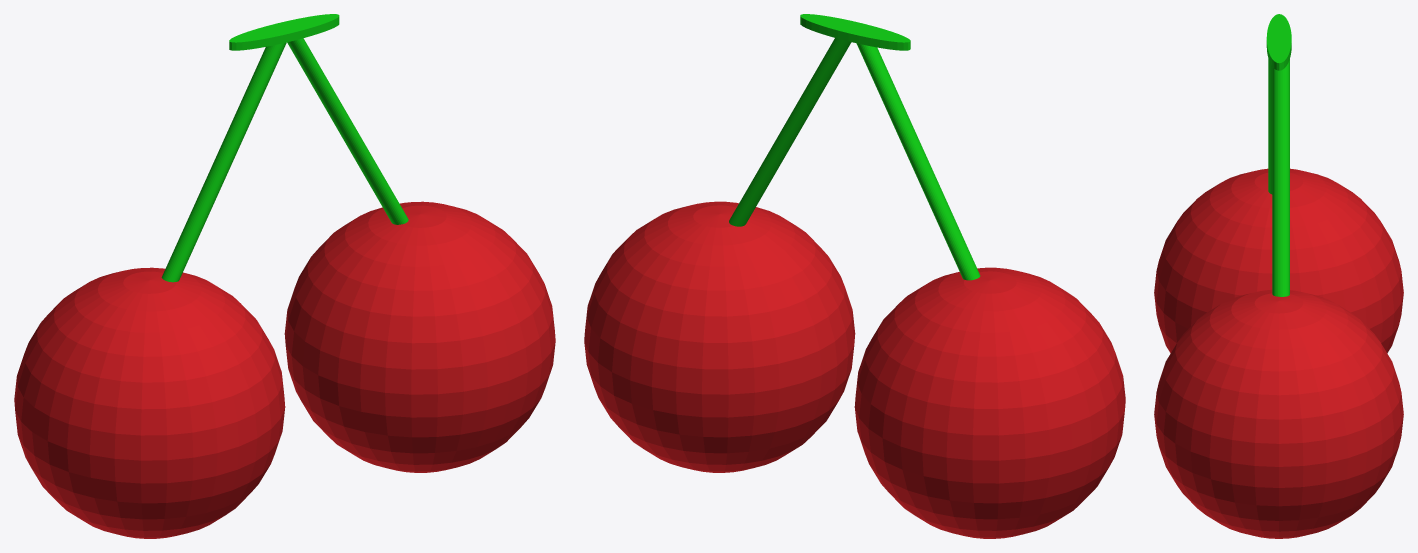
The model's file is cherry.fbx.
The picture shows the model from 3 angles, left to right: view 1: azimuth 30°, elevation 25°; view 2: azimuth 150°, elevation 25°; view 3: azimuth 270°, elevation 25°; orthographic projection. The views are drawn at different scales.
Visible parts, largest first — view 1: 球.001, 球, 円柱, 円柱.001, 円柱.002; view 2: 球.001, 球, 円柱, 円柱.001, 円柱.002; view 3: 球, 球.001, 円柱.001, 円柱.002, 円柱.
Boxes of the visible parts, left/top/right/bottom form: 球.001: left=14, top=267, right=285, bottom=538; 球: left=284, top=201, right=555, bottom=472; 円柱: left=161, top=42, right=286, bottom=282; 円柱.001: left=287, top=38, right=408, bottom=224; 円柱.002: left=229, top=14, right=339, bottom=50; 球.001: left=854, top=267, right=1125, bottom=538; 球: left=584, top=201, right=855, bottom=472; 円柱: left=856, top=43, right=980, bottom=280; 円柱.001: left=729, top=38, right=851, bottom=226; 円柱.002: left=800, top=14, right=910, bottom=50; 球: left=1154, top=289, right=1403, bottom=538; 球.001: left=1154, top=168, right=1403, bottom=353; 円柱.001: left=1272, top=59, right=1289, bottom=296; 円柱.002: left=1266, top=14, right=1291, bottom=70; 円柱: left=1268, top=59, right=1272, bottom=194.
Bounding box in the file's own units: 129 × 113 × 60.
